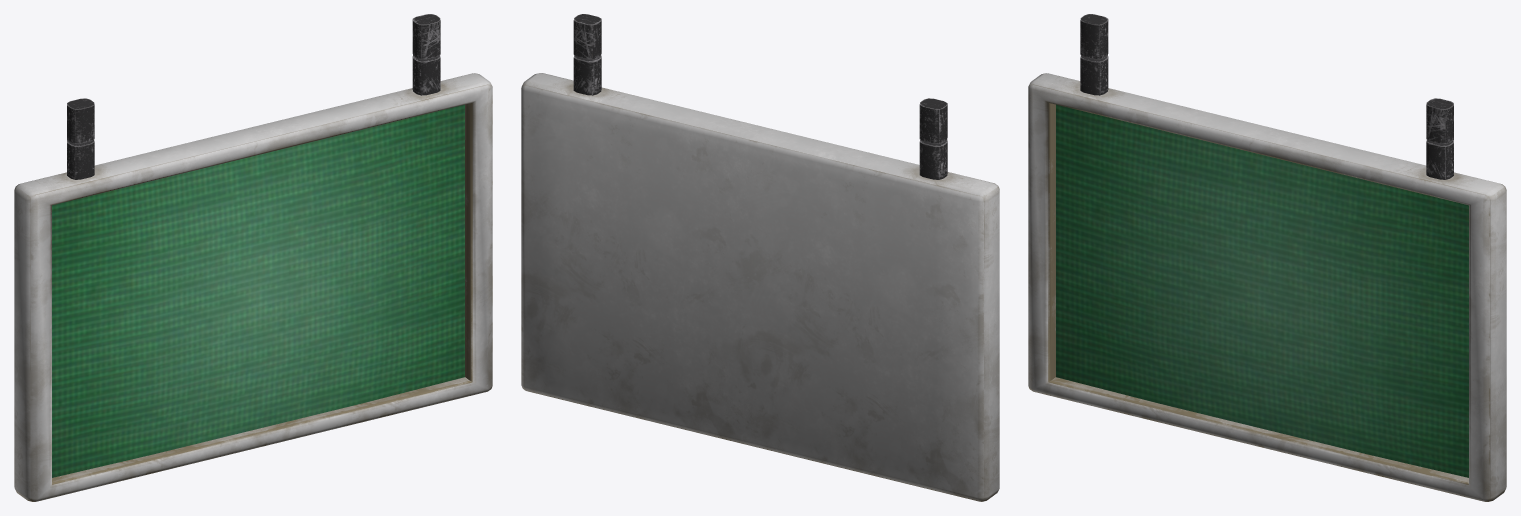
The model's file is DayCounter_Sign.fbx.
3 renders of one model, left to right at view 1: azimuth 30°, elevation 25°; view 2: azimuth 150°, elevation 25°; view 3: azimuth 330°, elevation 25°, orthographic.
Visible parts, largest first — view 1: Cube.016, Cube.015; view 2: Cube.015; view 3: Cube.016, Cube.015.
Boxes of the visible parts, x1,y1,x2,y2 form: Cube.016: (52,104,464,477); Cube.015: (14,14,492,501); Cube.015: (521,14,999,501); Cube.016: (1056,104,1468,477); Cube.015: (1028,14,1506,501).
Size of the model in its own units: 258 by 201 by 17.89.
2 materials, 2 textured.
